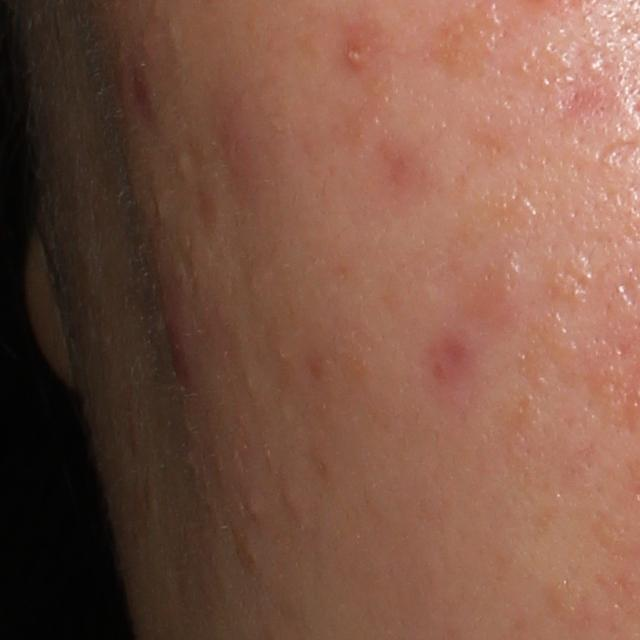comedo: (175, 153, 188, 177)
papule: (345, 40, 366, 68)
